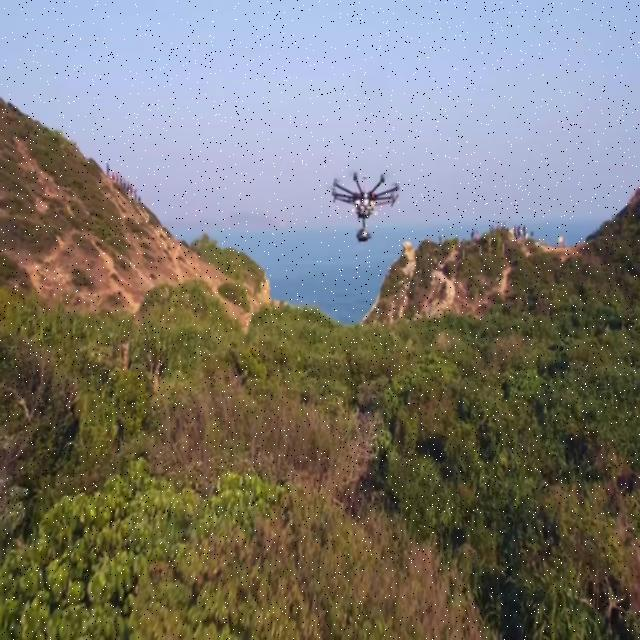UAV: (332, 172, 400, 242)
